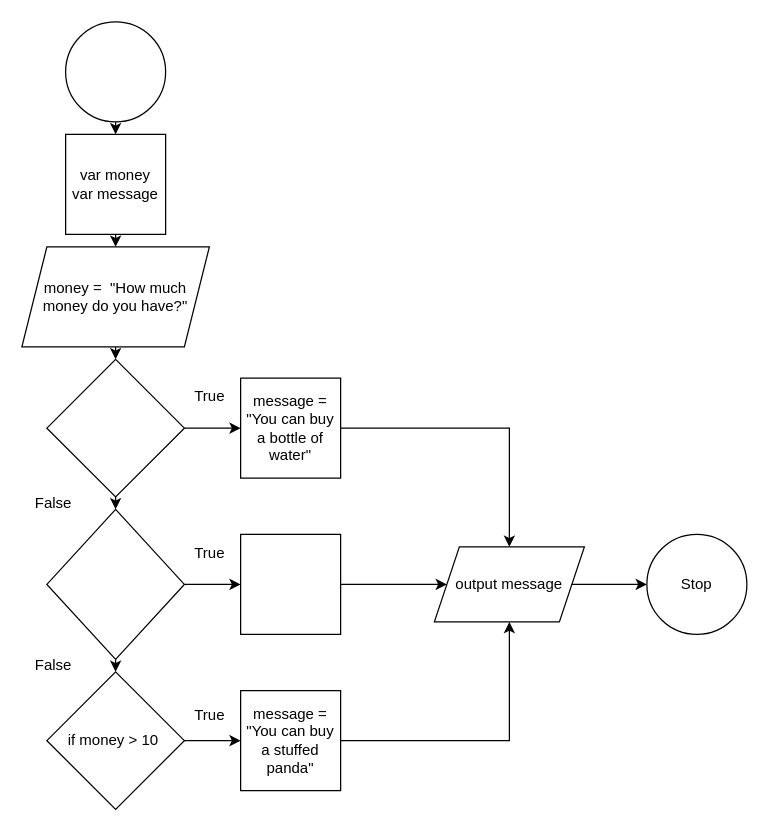
Some shapes in this 769 by 831 pixel diagram are drawn without their labels. The shapes that lost their labels are listed below. From the top down, each one's centre as x and y in pixels, then its label:
(115,71): Start
(115,427): if money >=1 or money <= 3
(115,583): if money >= 4 or money <= 9
(290,583): message = "You can buy a large bag of candy"
